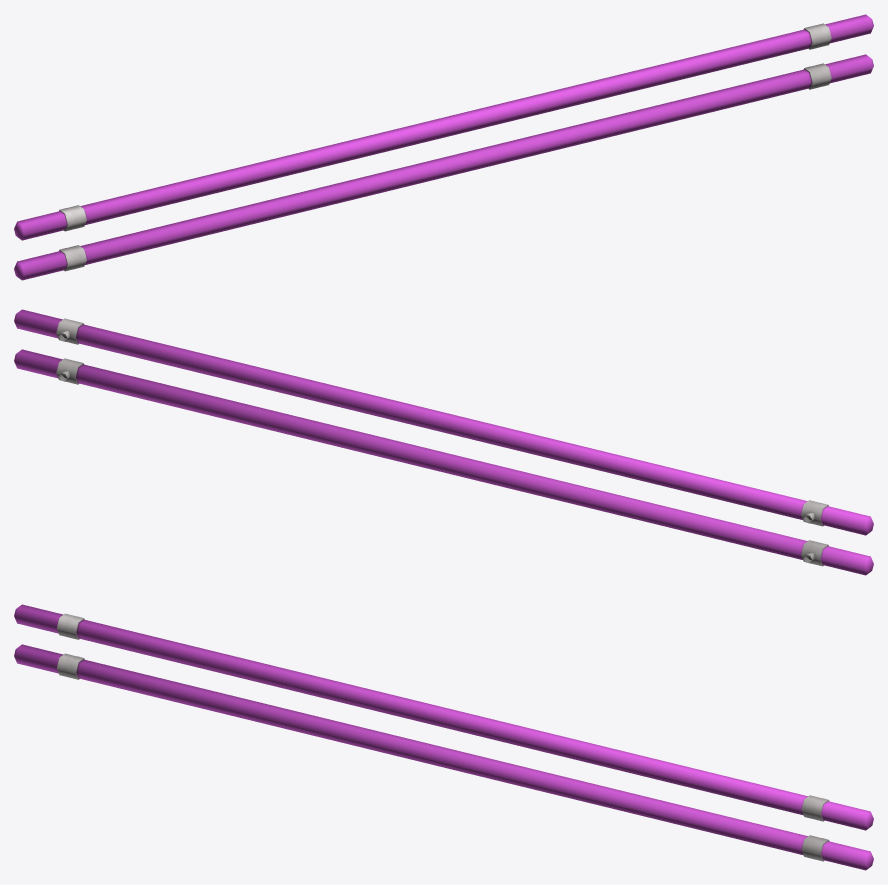
Rendered from video_store_neon_lights.fbx.
3 views of the same model, one above another, from view 1: azimuth 30°, elevation 25°; view 2: azimuth 150°, elevation 25°; view 3: azimuth 330°, elevation 25° (orthographic).
Parts seen in each view (by area): view 1: Mesh6_Group11_Group10_Group1_Model; view 2: Mesh6_Group11_Group10_Group1_Model; view 3: Mesh6_Group11_Group10_Group1_Model.
Boxes of the visible parts, left/top/right/bottom form: Mesh6_Group11_Group10_Group1_Model: left=14, top=14, right=873, bottom=280; Mesh6_Group11_Group10_Group1_Model: left=14, top=309, right=873, bottom=575; Mesh6_Group11_Group10_Group1_Model: left=14, top=604, right=873, bottom=870.
Bounding box in the file's own units: 200 × 12.9 × 5.56.
1 material, 1 textured.
